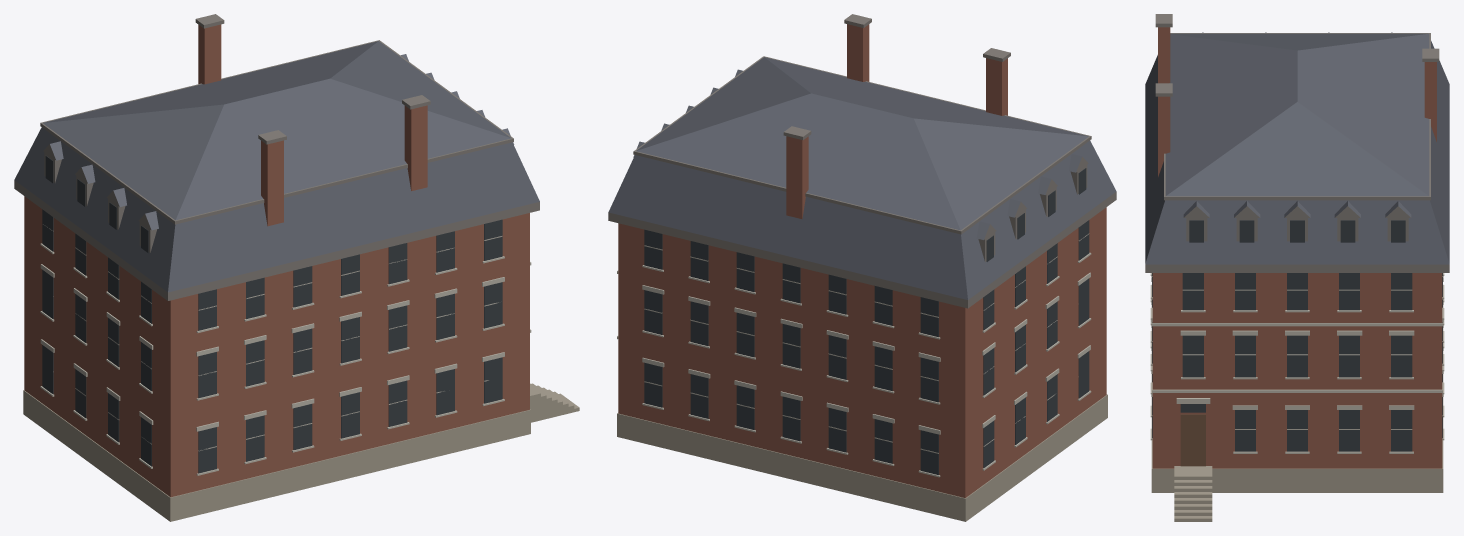
File: dent_house_1823_prairie__draft_1904.glb
3 renders of one model, left to right at view 1: azimuth 30°, elevation 25°; view 2: azimuth 150°, elevation 25°; view 3: azimuth 270°, elevation 25°, orthographic. The views are drawn at different scales.
Parts seen in each view (by area): view 1: dent_house_1823_prairie__draft_1904; view 2: dent_house_1823_prairie__draft_1904; view 3: dent_house_1823_prairie__draft_1904.
Part boxes in pixels (left/top/right/bottom): dent_house_1823_prairie__draft_1904: left=14, top=14, right=579, bottom=521; dent_house_1823_prairie__draft_1904: left=608, top=14, right=1116, bottom=521; dent_house_1823_prairie__draft_1904: left=1145, top=14, right=1449, bottom=521.
Size of the model in its own units: 23.15 by 18.43 by 14.45.
